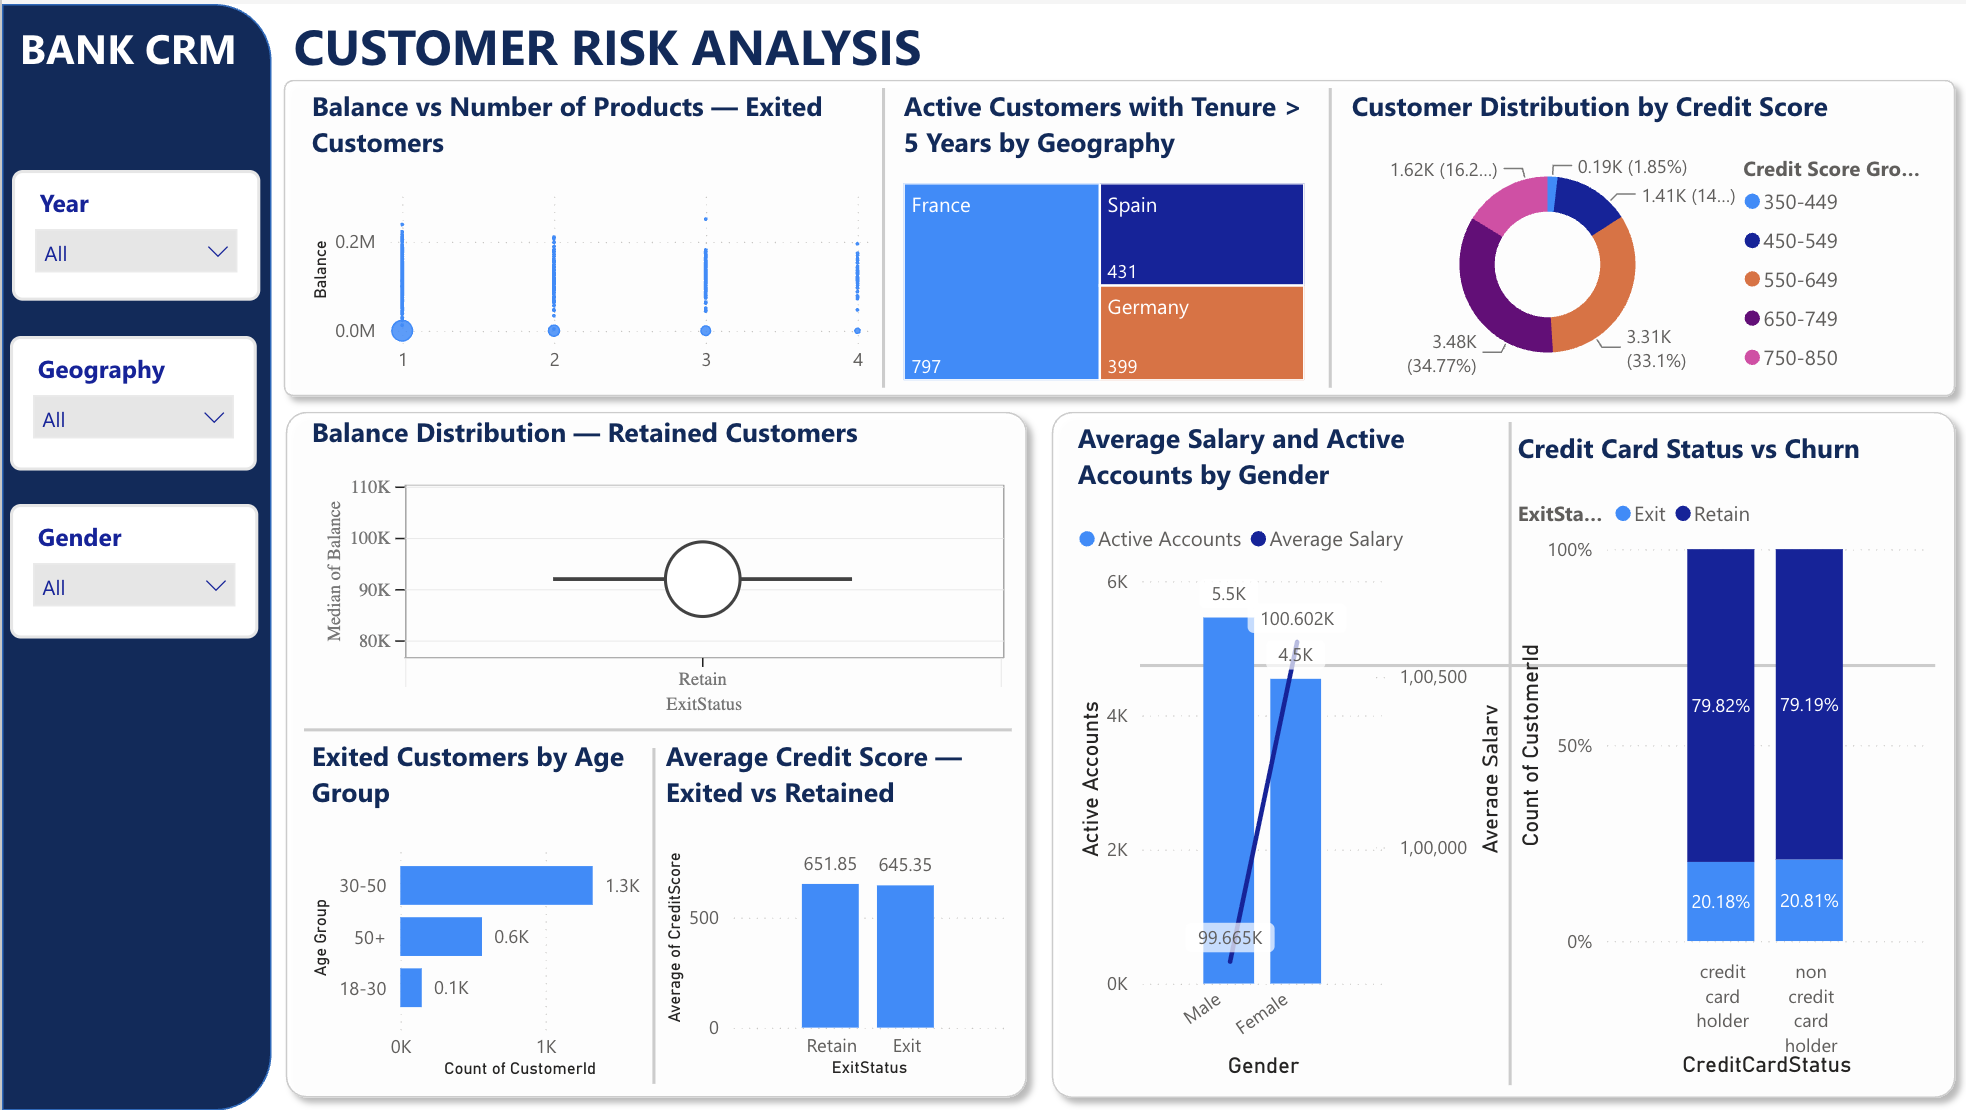

This screenshot's page, from the dashboard's own definition file:
{"tool":"powerbi","page":{"name":"CUSTOMER RISK ANALYSIS","canvas":[1280,720],"ordinal":1},"visuals":[{"type":"shape","box":[674.3,255.7,605.7,464.3],"z":0},{"type":"shape","box":[0,0,175.3,719.8],"z":1000},{"type":"shape","box":[175,39.9,1105,223.8],"z":2000},{"type":"shape","box":[175.3,255.7,500,463.9],"z":3000},{"type":"textbox","box":[185.2,0,531.3,54],"z":4000},{"type":"slicer","fields":{"Values":["bankcrm vw_bankcustomer.Geography"]},"box":[5.7,215.9,160.5,87.7],"z":5000},{"type":"slicer","fields":{"Values":["bankcrm vw_bankcustomer.Gender"]},"box":[5.7,325.7,161.7,87.7],"z":6000},{"type":"slicer","title":"hjkhjk","fields":{"Values":["bankcrm vw_bankcustomer.Year"]},"box":[7.1,108.6,161.7,85.2],"z":7000},{"type":"shape","box":[740.7,412.3,517.3,35.8],"z":8000},{"type":"shape","box":[196.6,456.9,460.3,31],"z":9000},{"type":"shape","box":[470.5,54.1,204.9,195.1],"z":10000},{"type":"textbox","box":[6.2,4.9,165.4,49.4],"z":11000},{"type":"scatterChart","title":"Balance vs Number of Products — Exited Customers","fields":{"Size":["Count(bankcrm vw_bankcustomer.CustomerId)"],"X":["bankcrm vw_bankcustomer.NumOfProducts"],"Y":["bankcrm vw_bankcustomer.Balance"]},"box":[195.9,54.1,376.2,195.1],"z":12000},{"type":"clusteredColumnChart","title":"Average Credit Score — Exited vs Retained","fields":{"Category":["bankcrm vw_bankcustomer.ExitStatus"],"Y":["Avg(bankcrm vw_bankcustomer.CreditScore)"]},"box":[426.1,477.2,230.4,225],"z":13000},{"type":"hundredPercentStackedColumnChart","title":"Credit Card Status vs Churn","fields":{"Category":["bankcrm vw_bankcustomer.CreditCardStatus"],"Series":["bankcrm vw_bankcustomer.ExitStatus"],"Y":["CountNonNull(bankcrm vw_bankcustomer.CustomerId)"]},"box":[981.4,277.1,275.7,425.7],"z":14000},{"type":"BoxandWhiskerByMAQ1823AD39DT234AB532063E128AX","title":"Balance Distribution — Retained Customers","fields":{"categoryGroup":["bankcrm vw_bankcustomer.ExitStatus"],"measure":["Median(bankcrm vw_bankcustomer.Balance)"]},"box":[196.1,267.1,460.5,206.6],"z":15000},{"type":"shape","box":[791.8,54.1,143.4,195.1],"z":16000},{"type":"donutChart","title":"Customer Distribution by Credit Score","fields":{"Category":["bankcrm vw_bankcustomer.Credit Score Group"],"Y":["Count(bankcrm vw_bankcustomer.CustomerId)"]},"box":[872.2,54,384.6,195.5],"z":17000},{"type":"lineClusteredColumnComboChart","title":"Average Salary and Active Accounts by Gender","fields":{"Category":["bankcrm vw_bankcustomer.Gender"],"Y":["CountNonNull(bankcrm vw_bankcustomer.ActiveStatus)"],"Y2":["Avg(bankcrm vw_bankcustomer.EstimatedSalary)"]},"box":[694.3,270,282.9,432.9],"z":18000},{"type":"treemap","title":"Active Customers with Tenure > 5 Years by Geography","fields":{"Group":["bankcrm vw_bankcustomer.Geography"],"Values":["CountNonNull(bankcrm vw_bankcustomer.CustomerId)"]},"box":[581.1,54.1,270.5,195.1],"z":19000},{"type":"clusteredBarChart","title":"Exited Customers by Age Group","fields":{"Category":["bankcrm vw_bankcustomer.Age Group"],"Y":["Count(bankcrm vw_bankcustomer.CustomerId)"]},"box":[196.3,477.6,230.6,225.4],"z":20000},{"type":"shape","box":[321.7,483.7,205.4,218.5],"z":21000},{"type":"shape","box":[878.6,271.4,205.7,431.4],"z":22000}]}

Visuals, with their boxes in screenshot pixels (x1, y1, x2, y2), scaled from the page's 1280x720 canvas onto the 1966x1110 screenshot:
shape: x1=1036 y1=394 x2=1965 y2=1109
shape: x1=0 y1=0 x2=269 y2=1109
shape: x1=269 y1=62 x2=1965 y2=407
shape: x1=269 y1=394 x2=1037 y2=1109
textbox: x1=284 y1=0 x2=1100 y2=83
slicer - bankcrm vw_bankcustomer.Geography: x1=9 y1=333 x2=255 y2=468
slicer - bankcrm vw_bankcustomer.Gender: x1=9 y1=502 x2=257 y2=637
"hjkhjk" slicer: x1=11 y1=167 x2=259 y2=299
shape: x1=1138 y1=636 x2=1932 y2=691
shape: x1=302 y1=704 x2=1009 y2=752
shape: x1=723 y1=83 x2=1037 y2=384
textbox: x1=10 y1=8 x2=264 y2=84
"Balance vs Number of Products — Exited Customers" scatterChart: x1=301 y1=83 x2=879 y2=384
"Average Credit Score — Exited vs Retained" clusteredColumnChart: x1=654 y1=736 x2=1008 y2=1083
"Credit Card Status vs Churn" hundredPercentStackedColumnChart: x1=1507 y1=427 x2=1931 y2=1083
"Balance Distribution — Retained Customers" BoxandWhiskerByMAQ1823AD39DT234AB532063E128AX: x1=301 y1=412 x2=1008 y2=730
shape: x1=1216 y1=83 x2=1436 y2=384
"Customer Distribution by Credit Score" donutChart: x1=1340 y1=83 x2=1930 y2=385
"Average Salary and Active Accounts by Gender" lineClusteredColumnComboChart: x1=1066 y1=416 x2=1501 y2=1084
"Active Customers with Tenure > 5 Years by Geography" treemap: x1=893 y1=83 x2=1308 y2=384
"Exited Customers by Age Group" clusteredBarChart: x1=302 y1=736 x2=656 y2=1084
shape: x1=494 y1=746 x2=810 y2=1083
shape: x1=1349 y1=418 x2=1665 y2=1083
